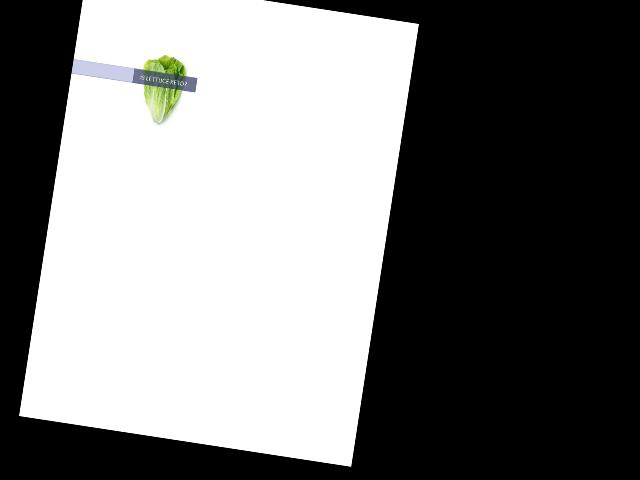lettuce: (132, 52, 191, 133)
